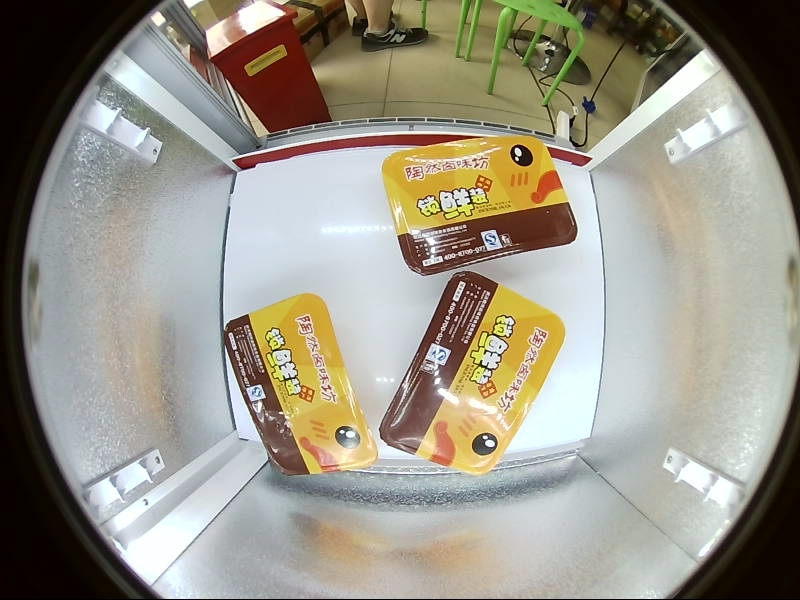ops-m155: (376, 268, 566, 477), (221, 289, 377, 480), (377, 133, 580, 275)
